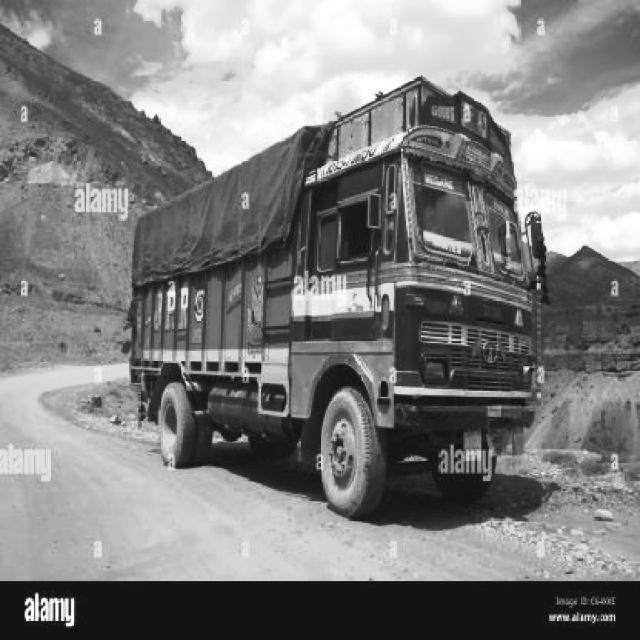HCV: (145, 80, 523, 503)
